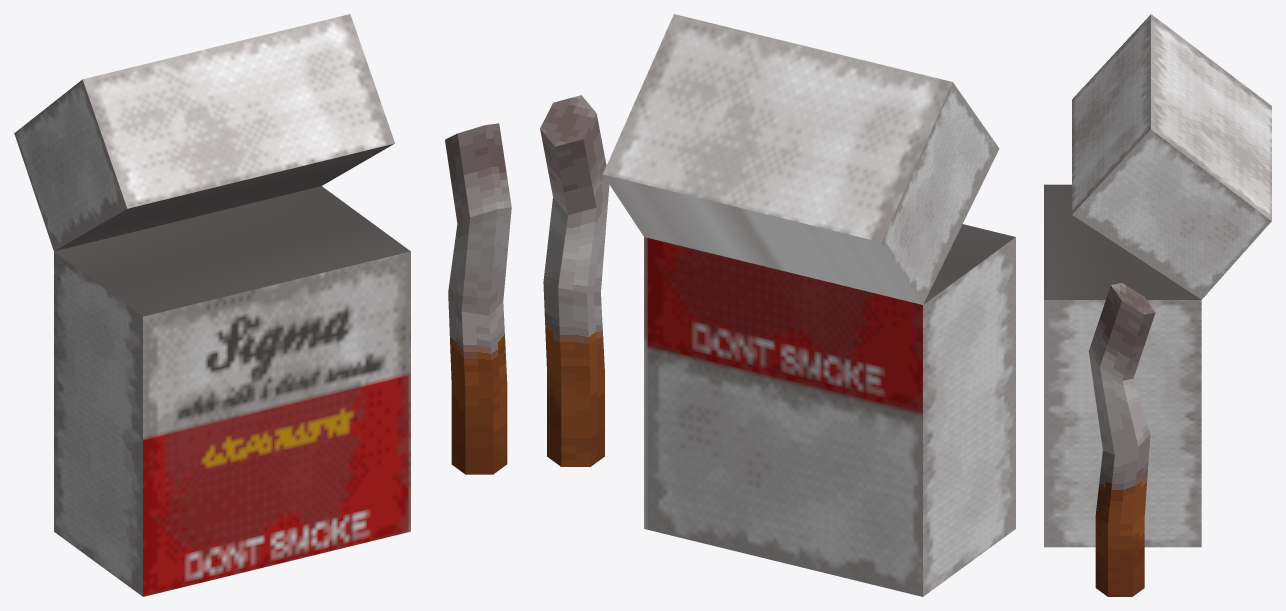
File: CIGS.fbx
3 renders of one model, left to right at view 1: azimuth 30°, elevation 25°; view 2: azimuth 150°, elevation 25°; view 3: azimuth 270°, elevation 25°, orthographic. The views are drawn at different scales.
Visible parts, largest first — view 1: Cube, Cylinder; view 2: Cube, Cylinder; view 3: Cube, Cylinder.
Boxes of the visible parts, x1,y1,x2,y2 form: Cube: [14, 14, 410, 596]; Cylinder: [445, 123, 511, 474]; Cube: [603, 14, 1015, 596]; Cylinder: [540, 95, 609, 466]; Cube: [1044, 14, 1271, 547]; Cylinder: [1088, 283, 1155, 596].
Size of the model in its own units: 299 by 338 by 167.
